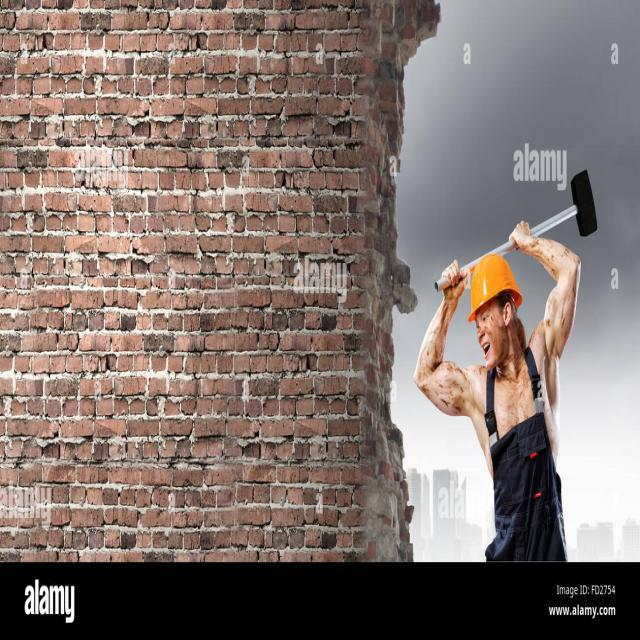hammer: (430, 160, 604, 308)
